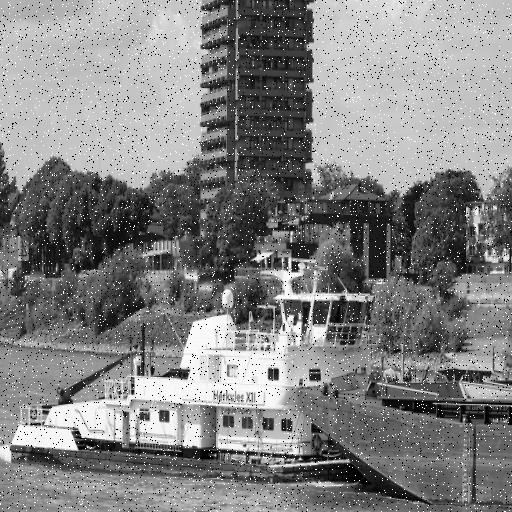tugboat: (5, 256, 427, 496)
